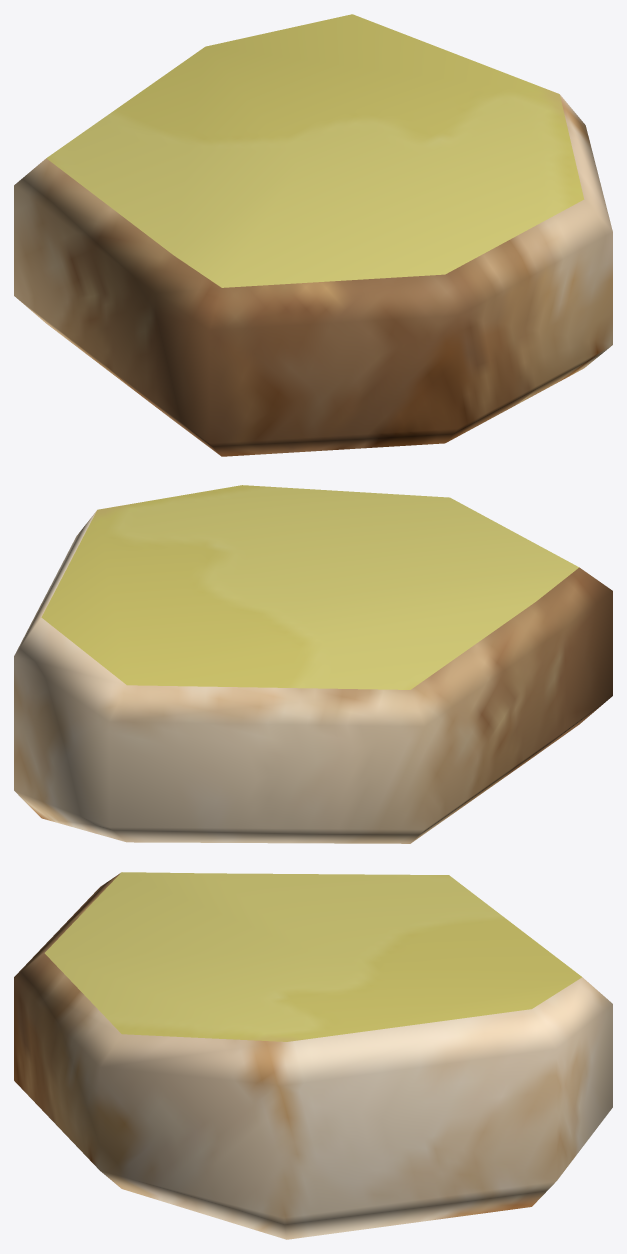
File: ChoppedGinger1.fbx
3 views of the same model, one above another, from view 1: azimuth 30°, elevation 25°; view 2: azimuth 150°, elevation 25°; view 3: azimuth 270°, elevation 25° (orthographic). The views are drawn at different scales.
Visible parts, largest first — view 1: ChoppedGinger1; view 2: ChoppedGinger1; view 3: ChoppedGinger1.
Part boxes in pixels (bbox=[...]): ChoppedGinger1: bbox=[14, 14, 612, 456]; ChoppedGinger1: bbox=[14, 485, 612, 843]; ChoppedGinger1: bbox=[14, 872, 612, 1239].
Bounding box in the file's own units: 3.37 × 1.46 × 3.99.
Materials: 1 (1 with a texture image).
